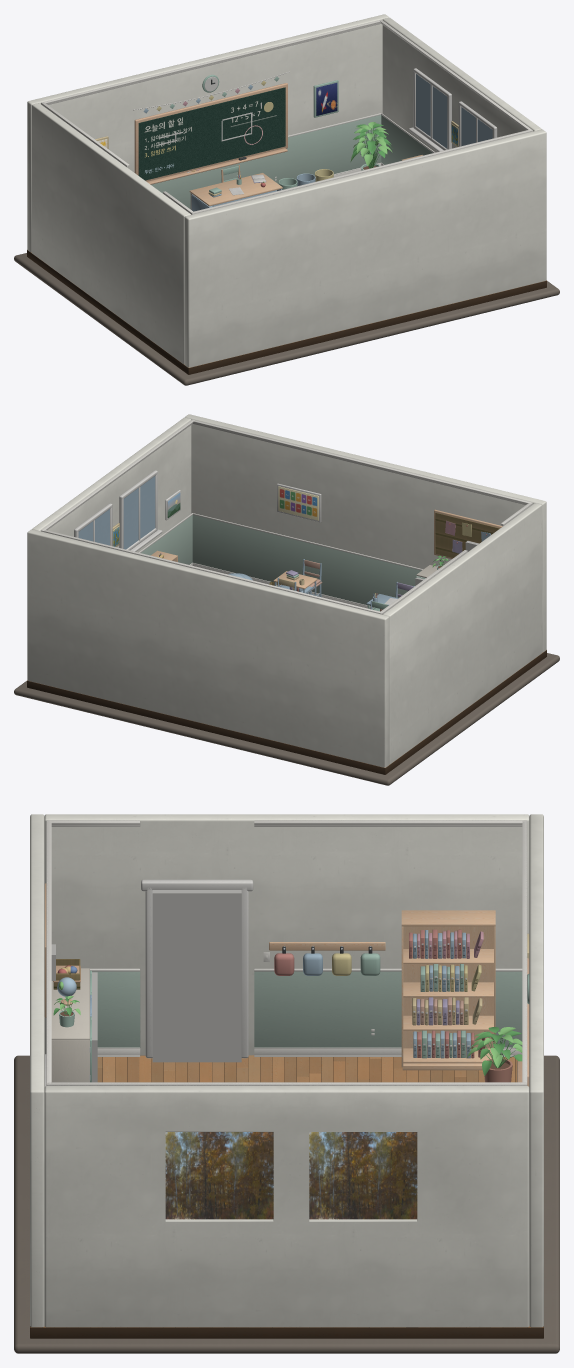
3 views of the same model, one above another, from view 1: azimuth 30°, elevation 25°; view 2: azimuth 150°, elevation 25°; view 3: azimuth 270°, elevation 25° (orthographic). The views are drawn at different scales.
Parts seen in each view (by area): view 1: S03_ENV_Wall_S, S03_ENV_Wall_W, S03_ENV_Wall_N, S03_WALLDECO_Blackboard, S03_ENV_Trim_N, S03_ENV_Wall_E, S03_ENV_Plinth, S03_ENV_Floor, S03_WALLDECO_Window, S03_ENV_Trim_E, S03_FUR_TeacherDesk, S03_PROP_Plant04 (+4 smaller); view 2: S03_ENV_Wall_N, S03_ENV_Wall_S, S03_ENV_Wall_W, S03_ENV_Trim_S, S03_ENV_Plinth, S03_ENV_Wall_E, S03_ENV_Floor, S03_WALLDECO_Window02, S03_ENV_Trim_E, S03_WALLDECO_BulletinBoard, S03_WALLDECO_ClassPoster, S03_ENV_Trim_N (+2 smaller); view 3: S03_ENV_Wall_E, S03_ENV_Wall_W, S03_ENV_Trim_W, S03_ENV_Plinth, S03_COL_INT_ExitDoor, S03_ENV_Floor, S03_FUR_Bookcase, S03_WALLDECO_Window02_View, S03_WALLDECO_Window_View, S03_ENV_Wall_S, S03_ENV_Wall_N, S03_WALLDECO_ExitDoorFrame (+10 smaller).
Part boxes in pixels (left/top/right/bottom): S03_ENV_Wall_S: left=184, top=129, right=546, bottom=367; S03_ENV_Wall_W: left=32, top=103, right=190, bottom=364; S03_ENV_Wall_N: left=27, top=14, right=388, bottom=252; S03_WALLDECO_Blackboard: left=134, top=83, right=287, bottom=184; S03_ENV_Trim_N: left=41, top=20, right=381, bottom=208; S03_ENV_Wall_E: left=382, top=17, right=541, bottom=152; S03_ENV_Plinth: left=14, top=253, right=559, bottom=385; S03_ENV_Floor: left=27, top=250, right=546, bottom=374; S03_WALLDECO_Window: left=408, top=68, right=451, bottom=151; S03_ENV_Trim_E: left=379, top=19, right=532, bottom=165; S03_FUR_TeacherDesk: left=189, top=173, right=282, bottom=206; S03_PROP_Plant04: left=350, top=122, right=392, bottom=170; S03_ENV_Wall_N: left=27, top=529, right=389, bottom=767; S03_ENV_Wall_S: left=185, top=414, right=546, bottom=652; S03_ENV_Wall_W: left=383, top=503, right=541, bottom=764; S03_ENV_Trim_S: left=192, top=420, right=532, bottom=608; S03_ENV_Plinth: left=14, top=653, right=559, bottom=785; S03_ENV_Wall_E: left=32, top=417, right=191, bottom=552; S03_ENV_Floor: left=27, top=650, right=546, bottom=774; S03_WALLDECO_Window02: left=119, top=470, right=162, bottom=551; S03_ENV_Trim_E: left=41, top=419, right=194, bottom=565; S03_WALLDECO_BulletinBoard: left=434, top=509, right=502, bottom=559; S03_WALLDECO_ClassPoster: left=277, top=483, right=321, bottom=522; S03_ENV_Trim_N: left=41, top=530, right=382, bottom=614; S03_ENV_Wall_E: left=44, top=1086, right=529, bottom=1327; S03_ENV_Wall_W: left=44, top=814, right=529, bottom=1055; S03_ENV_Trim_W: left=46, top=820, right=526, bottom=1056; S03_ENV_Plinth: left=14, top=1055, right=559, bottom=1353; S03_COL_INT_ExitDoor: left=152, top=890, right=241, bottom=1062; S03_ENV_Floor: left=30, top=1055, right=543, bottom=1338; S03_FUR_Bookcase: left=401, top=910, right=495, bottom=1070; S03_WALLDECO_Window02_View: left=165, top=1132, right=273, bottom=1219; S03_WALLDECO_Window_View: left=309, top=1132, right=417, bottom=1219; S03_ENV_Wall_S: left=30, top=814, right=44, bottom=1327; S03_ENV_Wall_N: left=529, top=814, right=543, bottom=1327; S03_WALLDECO_ExitDoorFrame: left=141, top=879, right=253, bottom=1058.
Bounding box in the file's own units: 7.68 × 3.16 × 6.08.
Materials: 96 (56 with a texture image).
